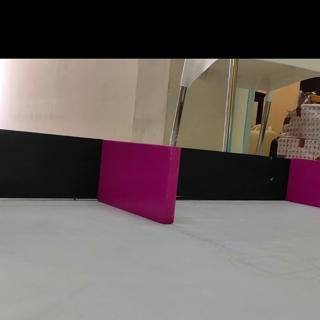xparking: (103, 147, 176, 219), (294, 160, 320, 205)
